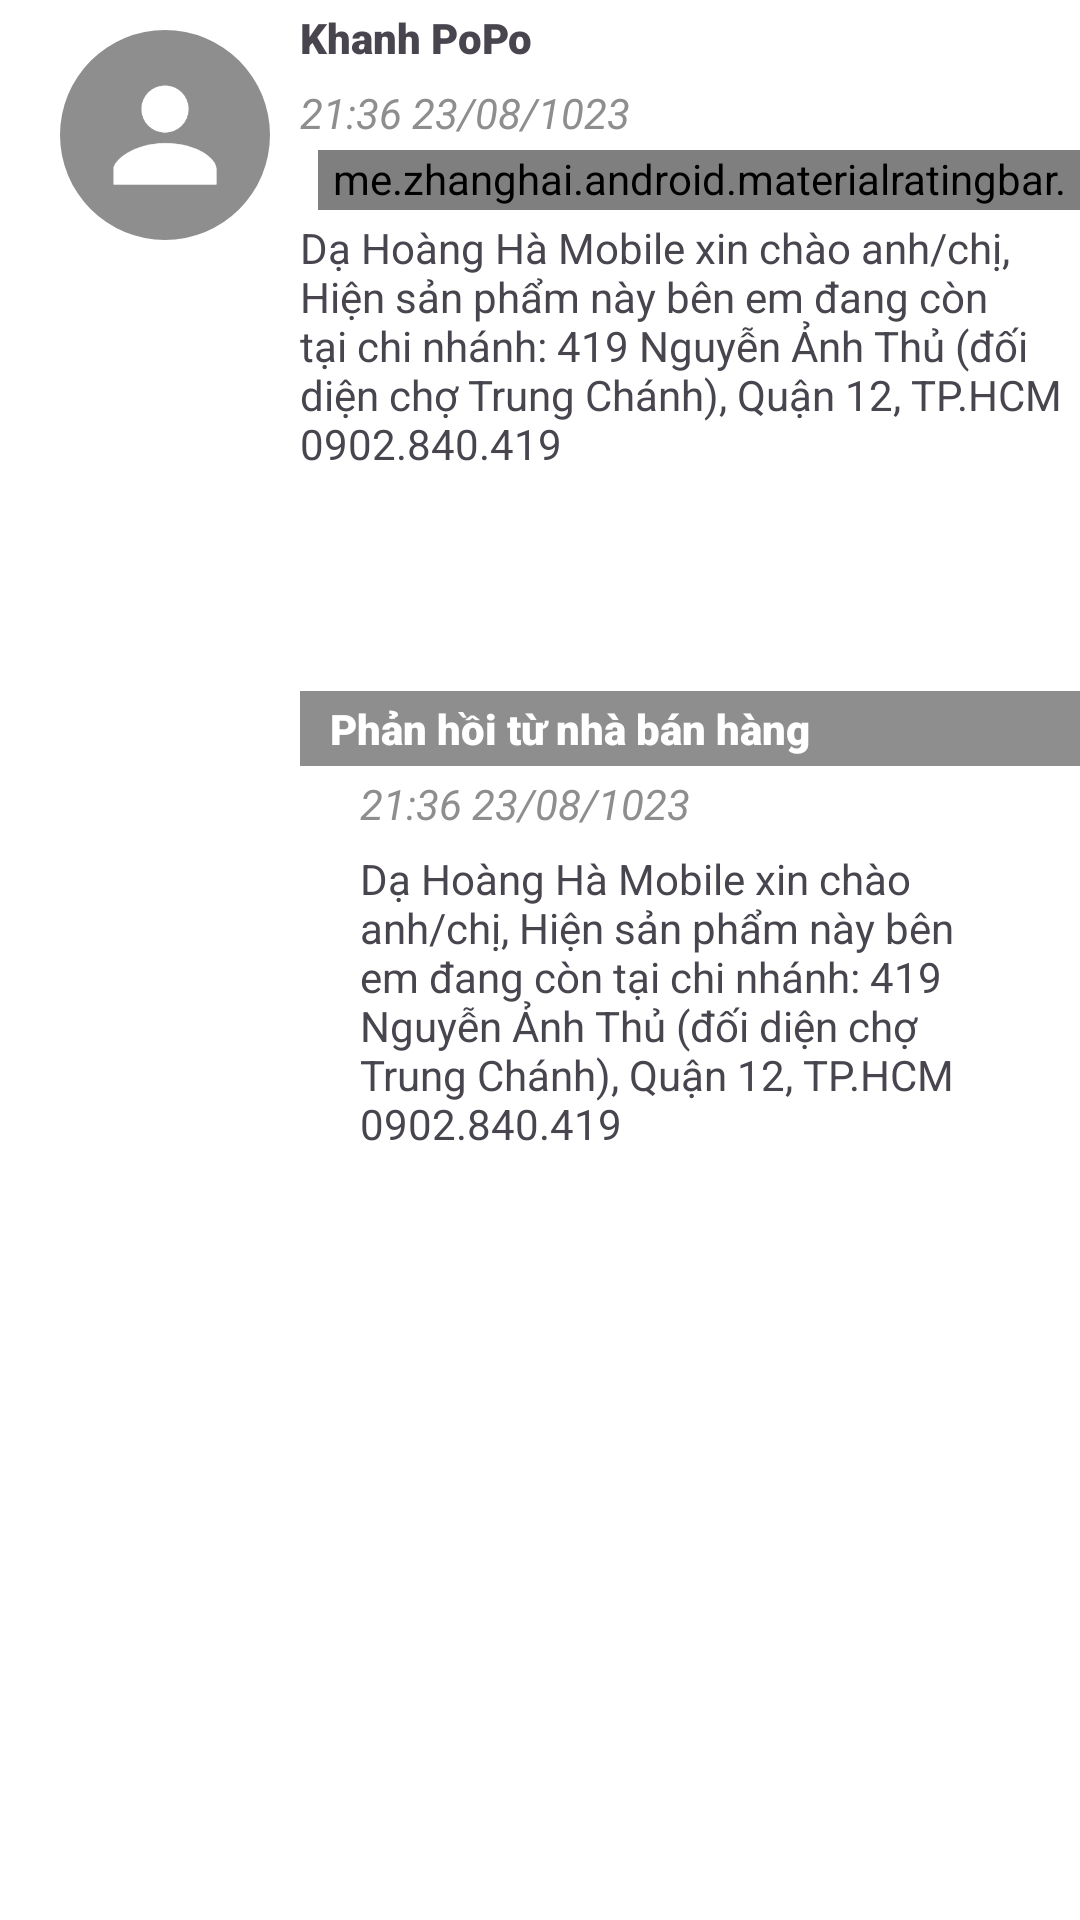

Named icons in this screenshot (1080*1920) and their bounding boxes, (left=x1, top=y1, right=x2, bottom=y2):
user: (left=60, top=30, right=270, bottom=240)
